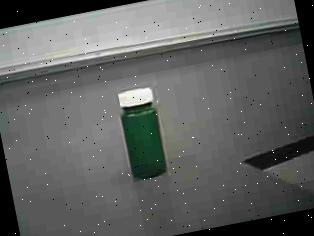Bottle C: (104, 75, 186, 189)
